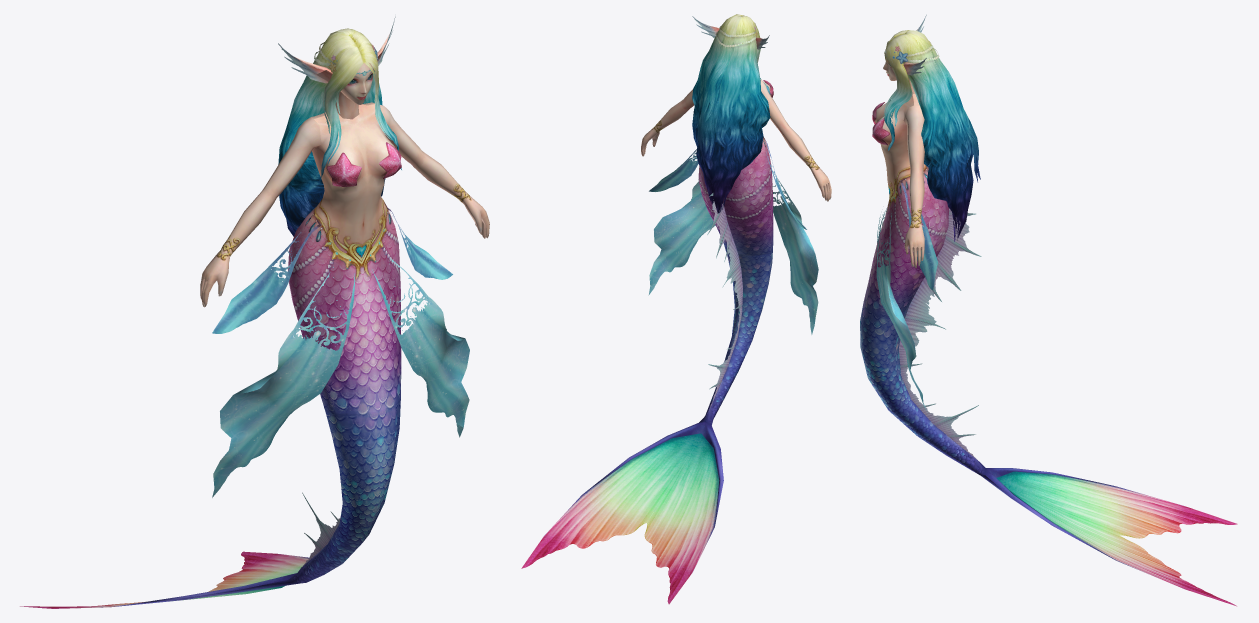
File: Mermaid_1.FBX
3 views of the same model, side by side, from view 1: azimuth 30°, elevation 25°; view 2: azimuth 150°, elevation 25°; view 3: azimuth 270°, elevation 25° (orthographic). The views are drawn at different scales.
Visible parts, largest first — view 1: bikini_elf_m00; view 2: bikini_elf_m00; view 3: bikini_elf_m00.
Boxes of the visible parts, bbox=[...] form: bikini_elf_m00: bbox=[20, 16, 489, 608]; bikini_elf_m00: bbox=[521, 14, 831, 604]; bikini_elf_m00: bbox=[860, 14, 1237, 606].
Size of the model in its own units: 23.47 by 55.61 by 36.21.
